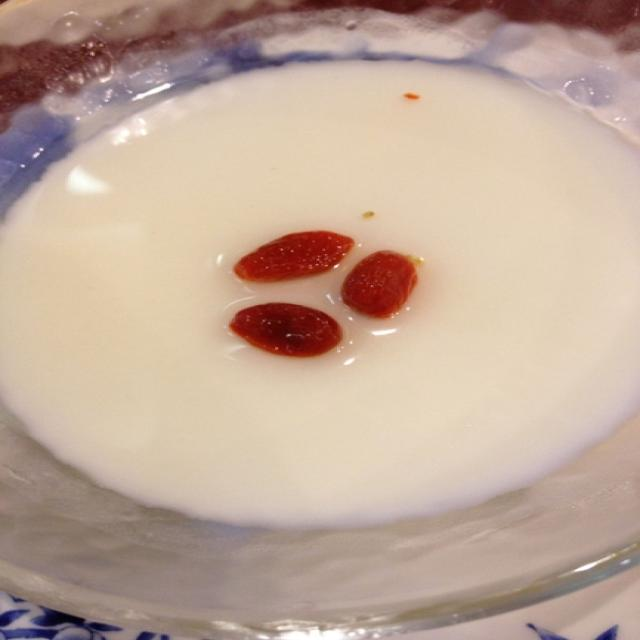带馅早点: (9, 0, 640, 640)
